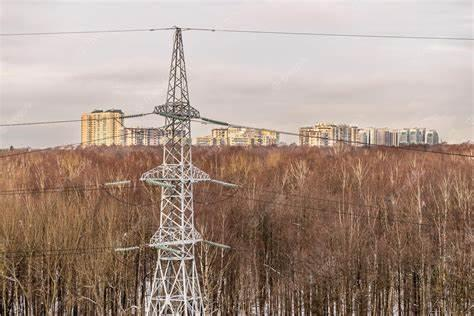power_tower: (123, 26, 231, 312)
